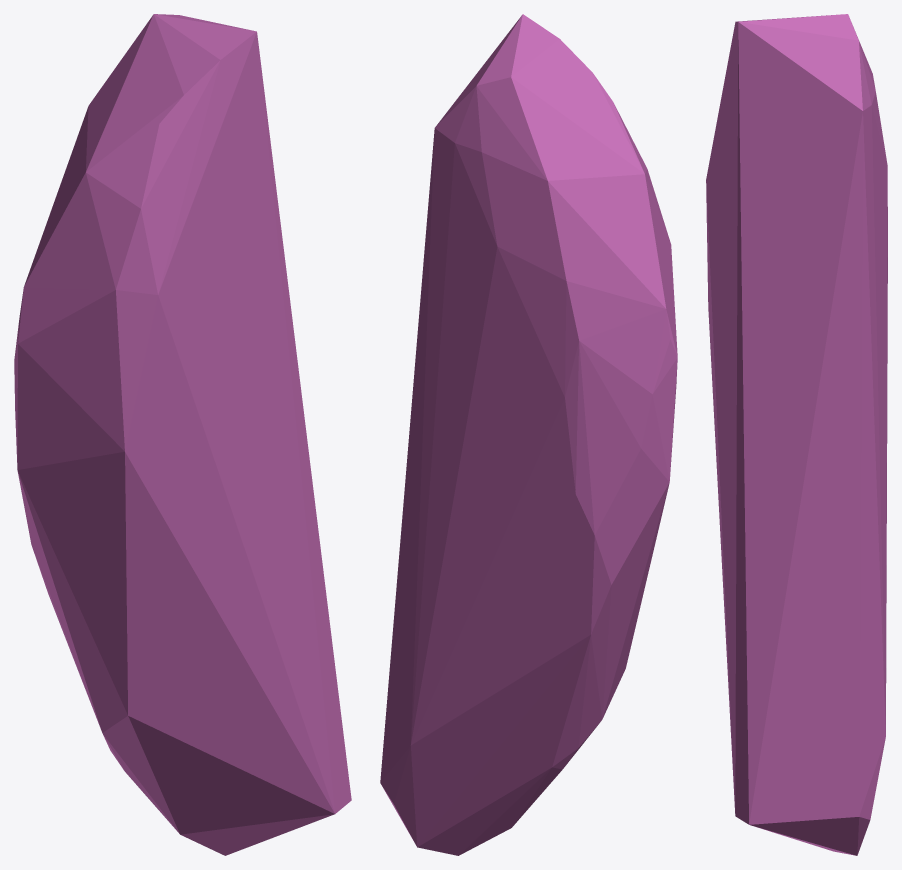
Rendered from food_produce_banana_s01.glb.
3 views of the same model, side by side, from view 1: azimuth 30°, elevation 25°; view 2: azimuth 150°, elevation 25°; view 3: azimuth 270°, elevation 25° (orthographic). The views are drawn at different scales.
Visible parts, largest first — view 1: geometry_0; view 2: geometry_0; view 3: geometry_0.
Part boxes in pixels (x1,y1,x2,y2): geometry_0: (14,14,351,855); geometry_0: (380,14,677,855); geometry_0: (706,14,887,855).
Bounding box in the file's own units: 0.1584 × 0.4332 × 0.0869.
